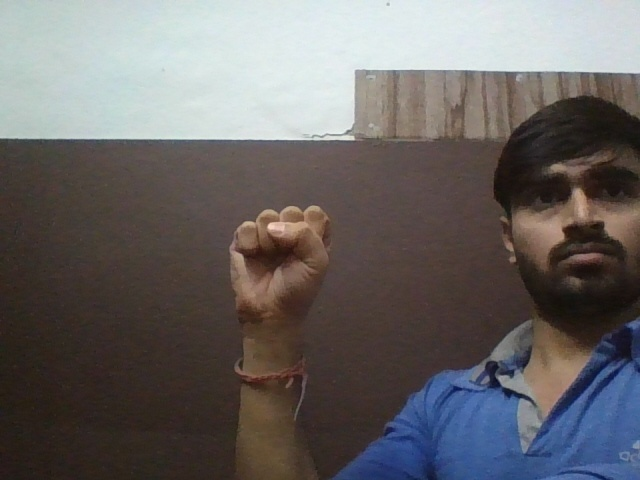S: (226, 198, 338, 339)
